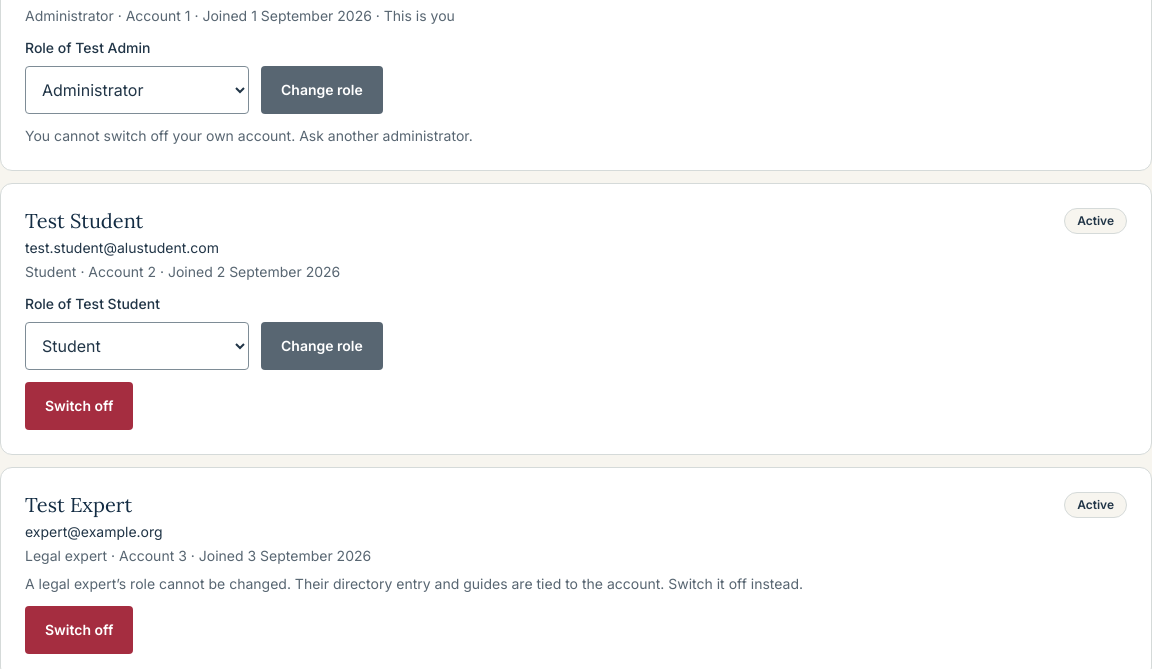
Test: People › shows the server’s reason beside the person when a change is refused
The width and height of the screenshot is (1152, 669).
(page scrolled)
Select "Administrator" in the dropdown labelled "Role of Test Student" at [137, 346], box [25,322,249,370]
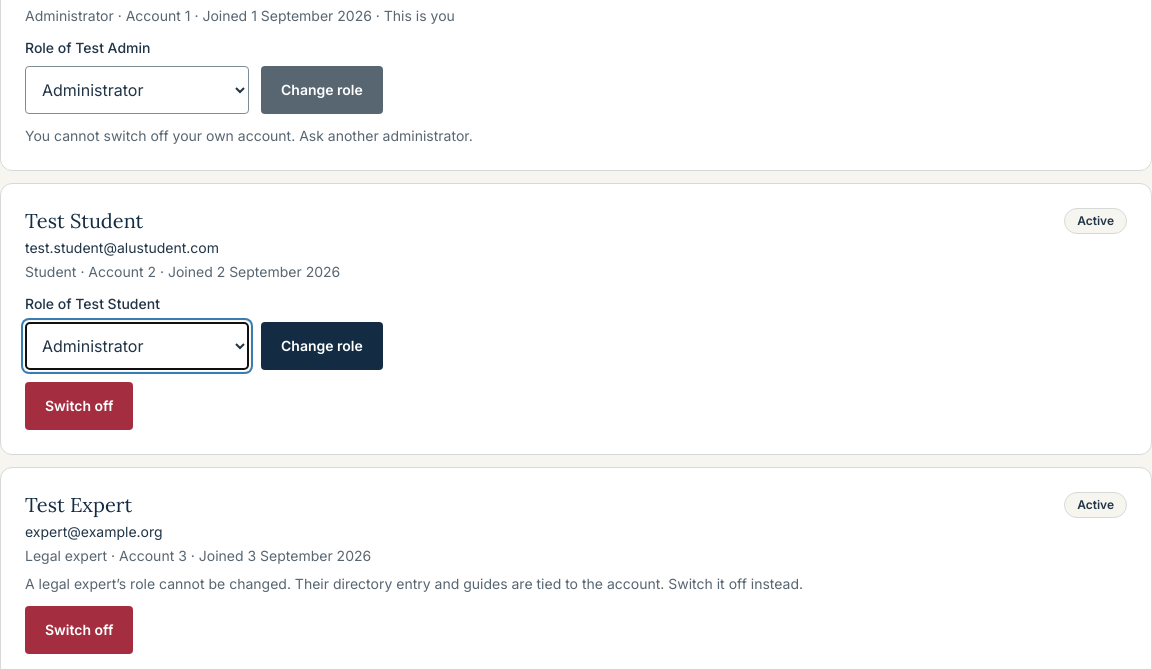
Click the button "Change role" below "Role of Test Student" at [322, 346], box [261,322,383,370]
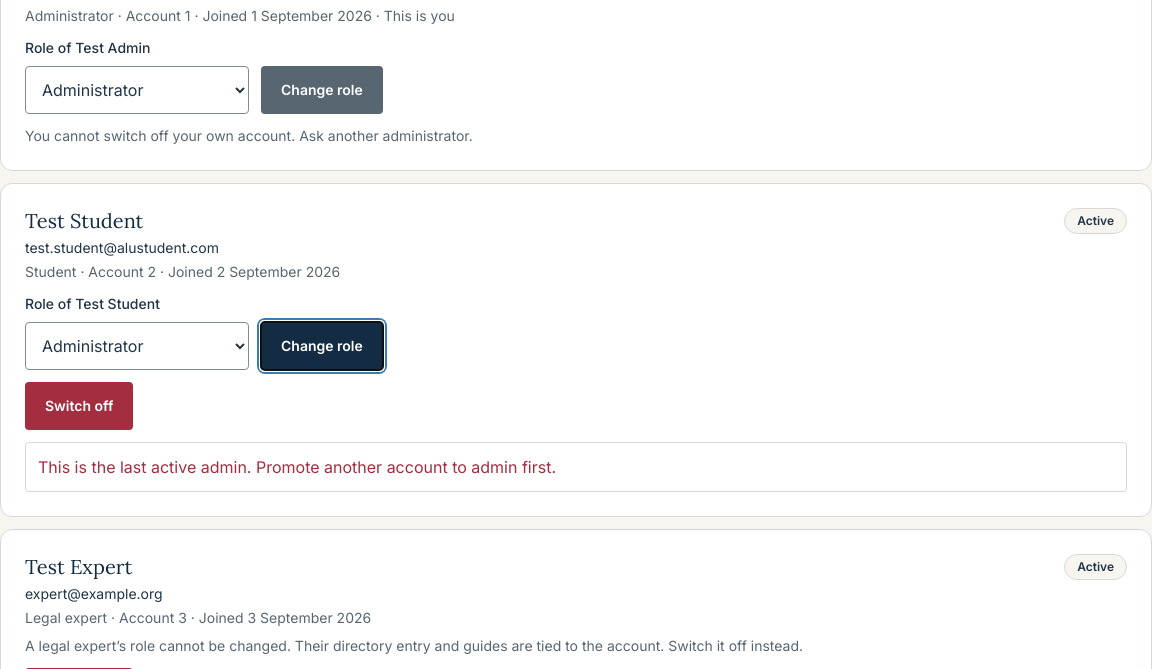
Check: the text "This is the last active admin. Promote another account to admin first." is shown, box [25,442,1127,492]
